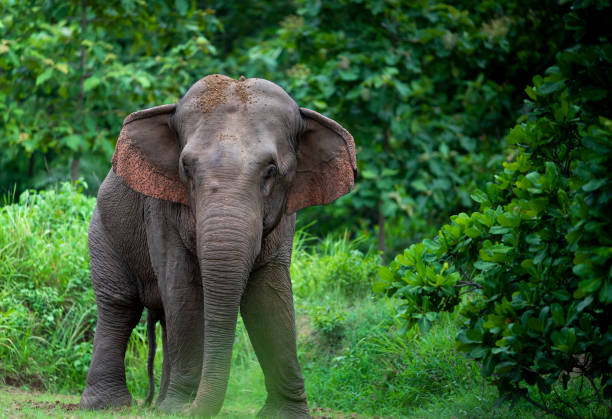africanelephant: (140, 79, 295, 323)
